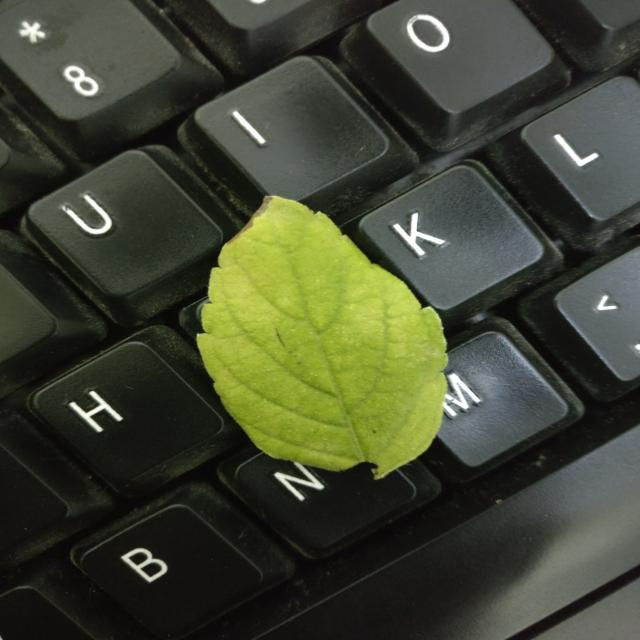tulsi: (198, 196, 448, 479)
